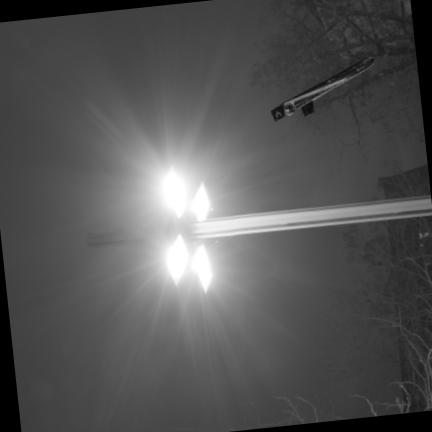Shahed: (271, 58, 374, 120)
